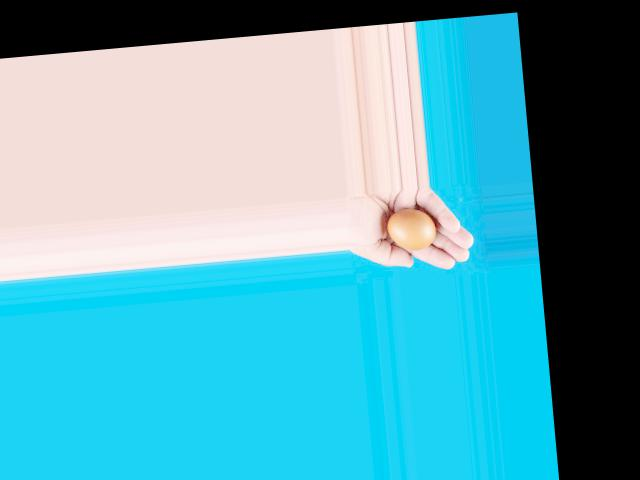egg: (386, 207, 438, 251)
